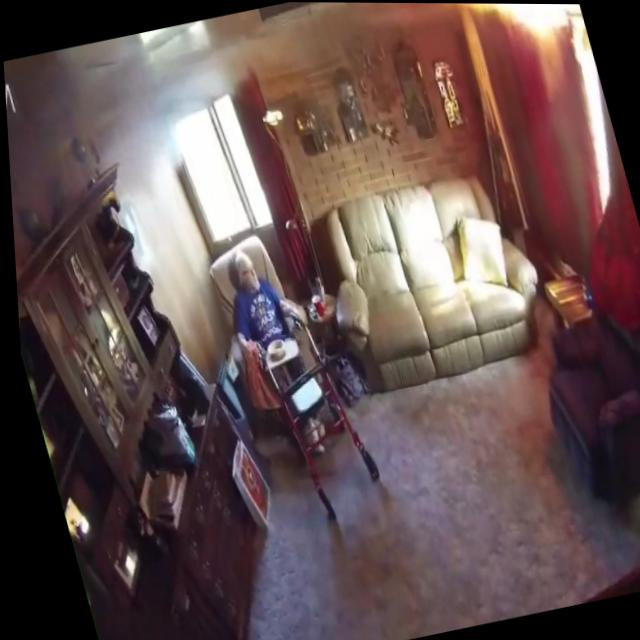fire: (448, 3, 584, 53)
